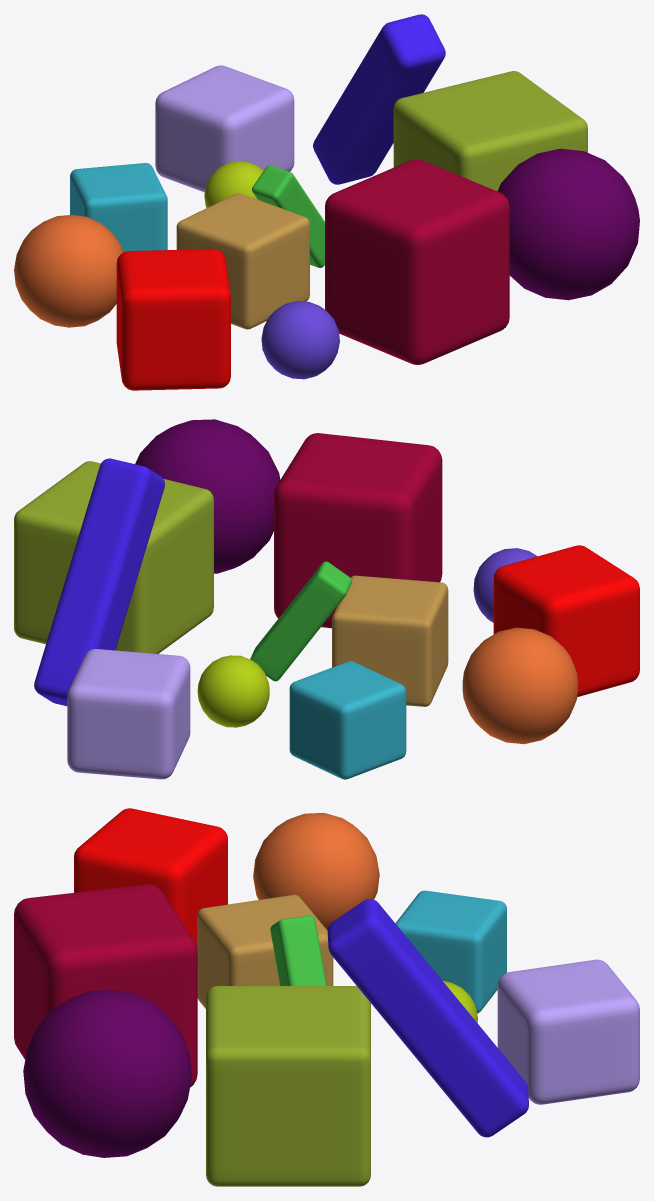
The model's file is cubes2.DAE.
3 renders of one model, top to bottom at view 1: azimuth 30°, elevation 25°; view 2: azimuth 150°, elevation 25°; view 3: azimuth 270°, elevation 25°, orthographic. The views are drawn at different scales.
Parts seen in each view (by area): view 1: ChamferBox008, GeoSphere004, ChamferBox007, ChamferBox001, ChamferBox003, ChamferBox005, ChamferBox002, GeoSphere003, ChamferBox004, GeoSphere001, ChamferBox006, GeoSphere002; view 2: ChamferBox008, ChamferBox001, ChamferBox005, ChamferBox007, ChamferBox003, GeoSphere004, ChamferBox002, ChamferBox004, GeoSphere003, ChamferBox006, GeoSphere002, GeoSphere001; view 3: ChamferBox001, GeoSphere004, ChamferBox008, ChamferBox005, ChamferBox003, ChamferBox007, GeoSphere003, ChamferBox004, ChamferBox002, ChamferBox006.
Boxes of the visible parts, left/top/right/bottom form: ChamferBox008: left=325, top=159, right=509, bottom=364; GeoSphere004: left=497, top=148, right=639, bottom=300; ChamferBox007: left=116, top=249, right=230, bottom=390; ChamferBox001: left=393, top=71, right=587, bottom=191; ChamferBox003: left=155, top=65, right=294, bottom=192; ChamferBox005: left=313, top=14, right=445, bottom=184; ChamferBox002: left=176, top=193, right=309, bottom=329; GeoSphere003: left=14, top=215, right=123, bottom=327; ChamferBox004: left=70, top=163, right=167, bottom=251; GeoSphere001: left=261, top=301, right=339, bottom=379; ChamferBox006: left=252, top=165, right=324, bottom=267; GeoSphere002: left=204, top=161, right=263, bottom=207; ChamferBox008: left=274, top=433, right=442, bottom=628; ChamferBox001: left=14, top=461, right=213, bottom=653; ChamferBox005: left=34, top=458, right=164, bottom=706; ChamferBox007: left=493, top=545, right=639, bottom=697; ChamferBox003: left=67, top=649, right=190, bottom=779; GeoSphere004: left=135, top=419, right=280, bottom=573; ChamferBox002: left=332, top=575, right=448, bottom=706; ChamferBox004: left=289, top=661, right=406, bottom=779; GeoSphere003: left=462, top=627, right=577, bottom=744; ChamferBox006: left=250, top=561, right=351, bottom=681; GeoSphere002: left=197, top=655, right=269, bottom=727; GeoSphere001: left=473, top=548, right=537, bottom=622; ChamferBox001: left=206, top=986, right=370, bottom=1186; GeoSphere004: left=23, top=990, right=191, bottom=1157; ChamferBox008: left=14, top=884, right=197, bottom=1087; ChamferBox005: left=327, top=899, right=528, bottom=1137; ChamferBox003: left=497, top=959, right=639, bottom=1104; ChamferBox007: left=74, top=808, right=227, bottom=948; GeoSphere003: left=253, top=812, right=379, bottom=930; ChamferBox004: left=395, top=890, right=506, bottom=1013; ChamferBox002: left=197, top=895, right=333, bottom=1008; ChamferBox006: left=270, top=915, right=326, bottom=985.
Size of what is drawn, in the model's own units: 224 by 81.7 by 209.
